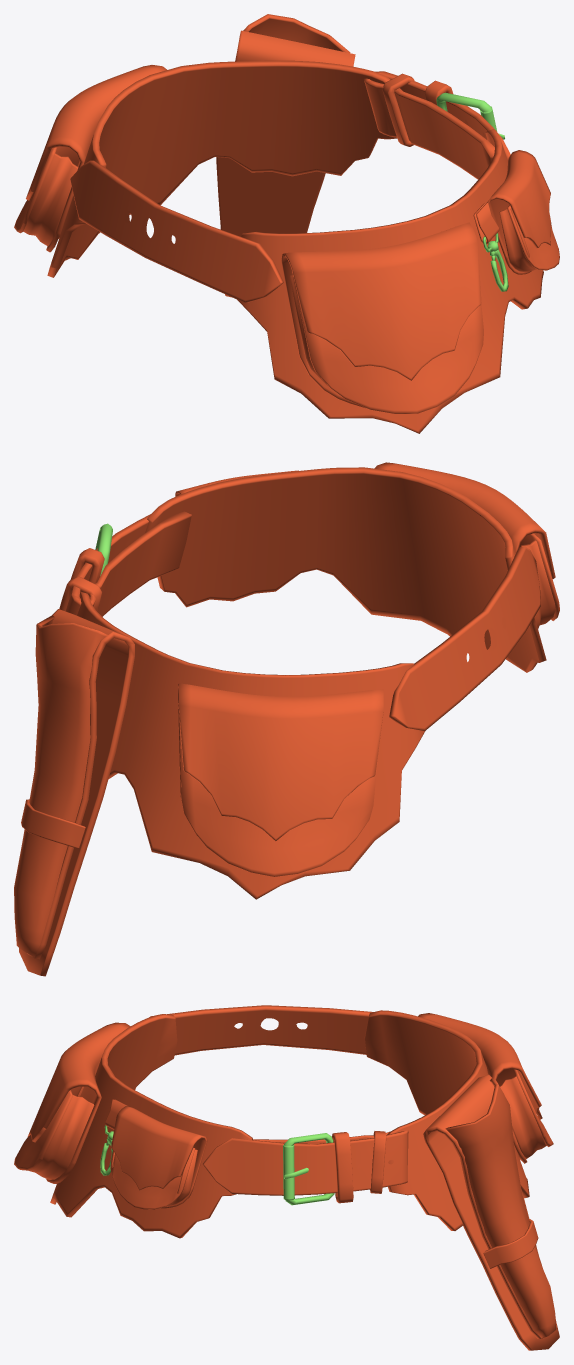
The model's file is belt.fbx.
The picture shows the model from 3 angles, top to bottom: view 1: azimuth 30°, elevation 25°; view 2: azimuth 150°, elevation 25°; view 3: azimuth 270°, elevation 25°; orthographic projection. The views are drawn at different scales.
Visible parts, largest first — view 1: belt, bag_2, holster, bag_3, bag_1, carabiner, buckle; view 2: belt, bag_3, holster, bag_2; view 3: belt, holster, bag_2, bag_1, bag_3, buckle, carabiner.
Boxes of the visible parts, x1=… form: belt: x1=47, y1=60, x2=543, y2=433; bag_2: x1=281, y1=222, x2=483, y2=413; holster: x1=216, y1=14, x2=355, y2=297; bag_3: x1=14, y1=65, x2=166, y2=252; bag_1: x1=487, y1=150, x2=559, y2=274; carabiner: x1=473, y1=203, x2=508, y2=291; buckle: x1=436, y1=92, x2=504, y2=139; belt: x1=59, y1=467, x2=546, y2=899; bag_3: x1=178, y1=683, x2=383, y2=876; holster: x1=14, y1=609, x2=134, y2=976; bag_2: x1=374, y1=462, x2=559, y2=628; belt: x1=50, y1=1005, x2=529, y2=1238; holster: x1=423, y1=1075, x2=559, y2=1350; bag_2: x1=14, y1=1022, x2=130, y2=1183; bag_1: x1=110, y1=1106, x2=207, y2=1209; bag_3: x1=418, y1=1013, x2=553, y2=1163; buckle: x1=283, y1=1133, x2=334, y2=1205; carabiner: x1=100, y1=1099, x2=127, y2=1175.
Size of the model in its own units: 1337 by 1060 by 2009.
